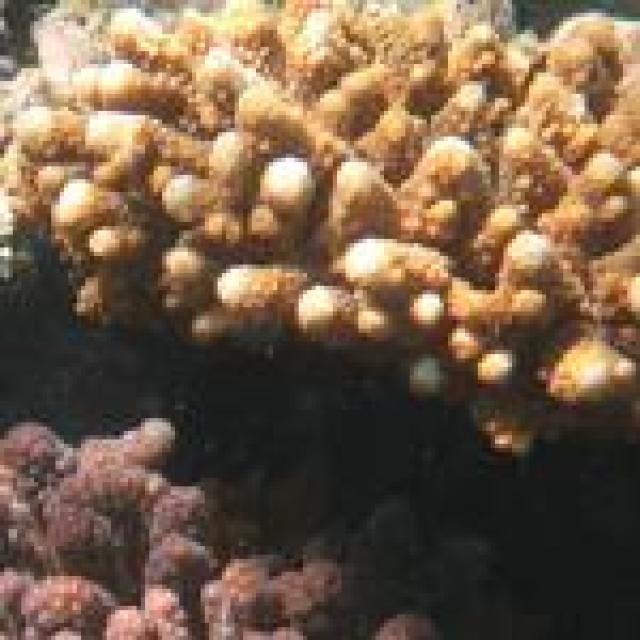Healthy Coral: (0, 0, 637, 361), (0, 400, 444, 640)
